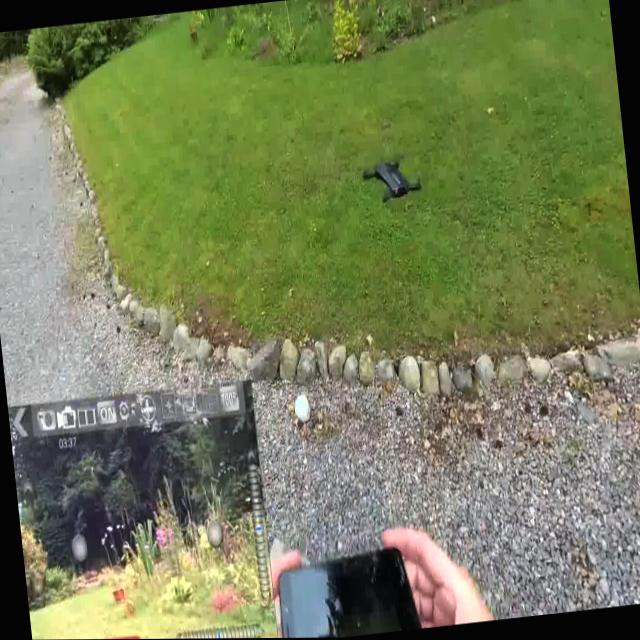drone: (337, 99, 444, 252)
